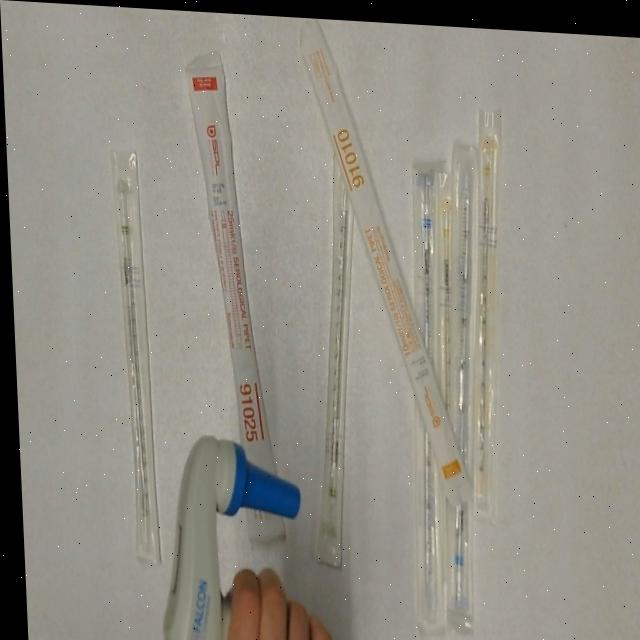Pipette Controller: (147, 423, 306, 640)
Serelogical Pipet 1 mL - Sealed: (452, 99, 520, 517), (422, 164, 468, 418)
Serelogical Pipet 10 mL - Sealed: (295, 18, 467, 504)
Serelogical Pipet 2 mL - Sealed: (296, 139, 376, 568), (111, 146, 159, 566)
Serelogical Pipet 25 mL - Sealed: (183, 44, 298, 547)
Serelogical Pipet 5 mL - Sealed: (424, 133, 496, 614), (393, 146, 456, 631)
